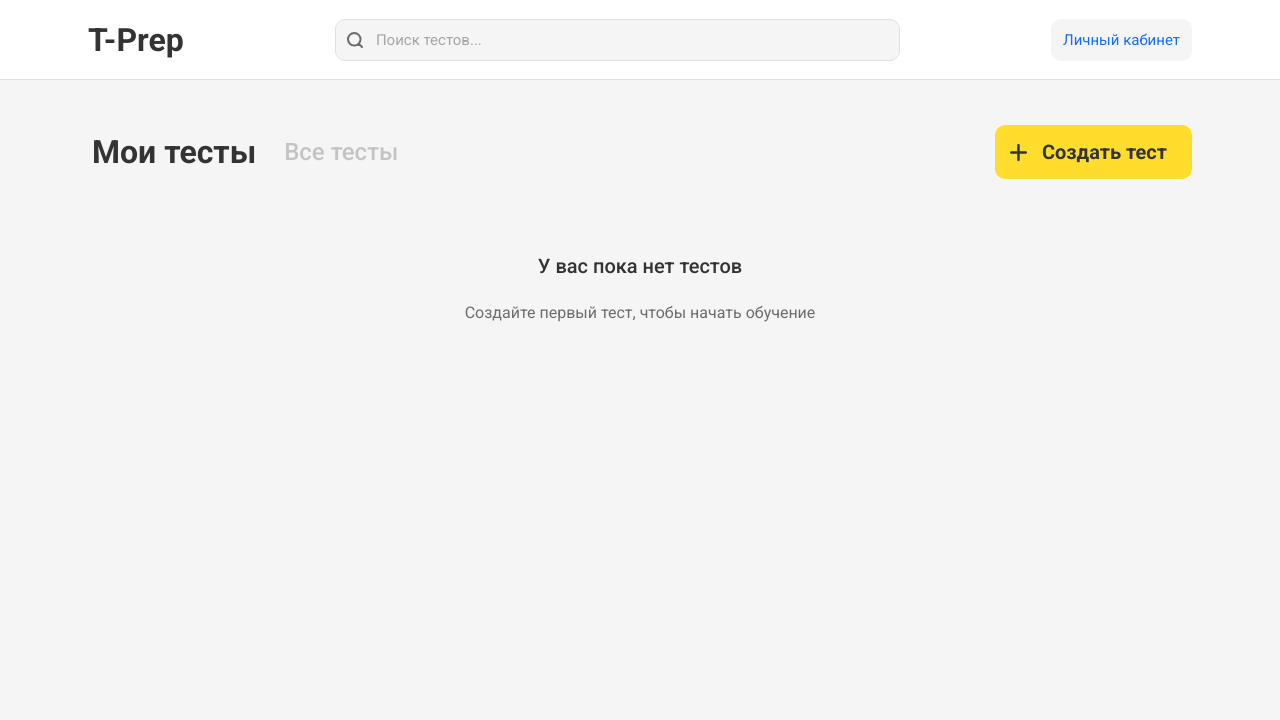
Test case: MainPage › tabs › loads public tests and hides create button on "Все тесты" tab
The image size is (1280, 720).
Check: the text "У вас пока нет тестов" is shown, box [538,254,742,278]
Click the button "Все тесты".
click(341, 152)  # box [280,125,402,179]
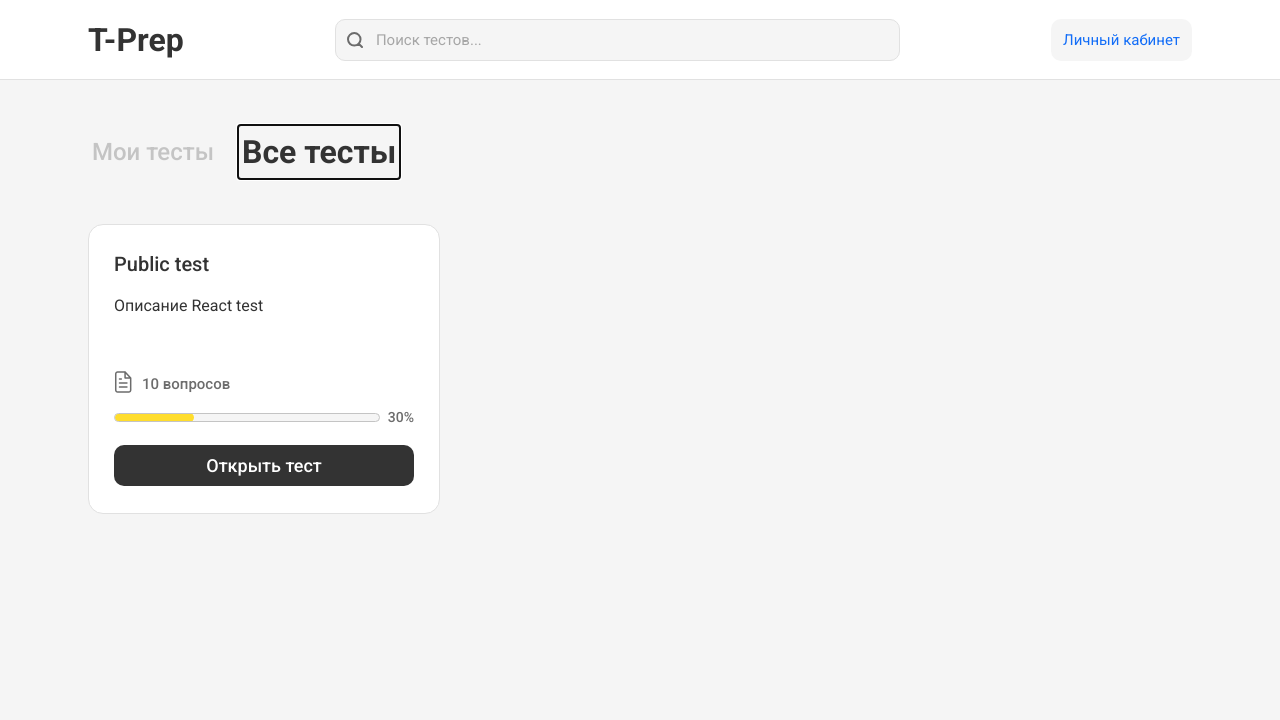
Check: the heading "Public test" is shown, box [114,252,209,276]
Check: the button "Создать тест" is gone
